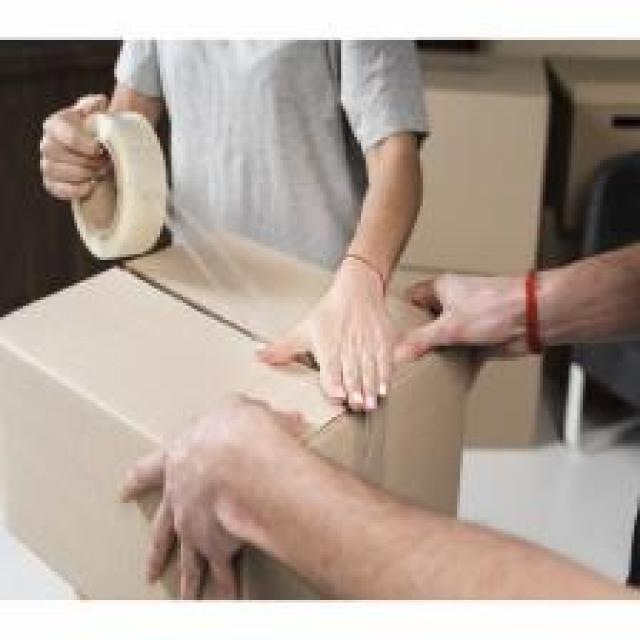box: (1, 223, 482, 600)
